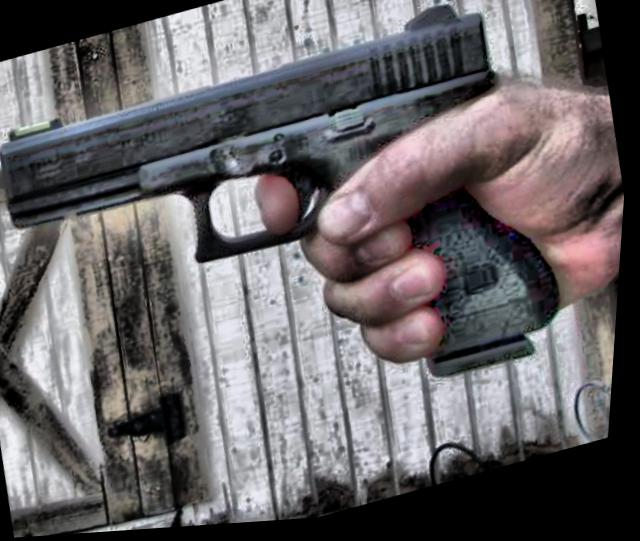pistol: (0, 0, 593, 494)
